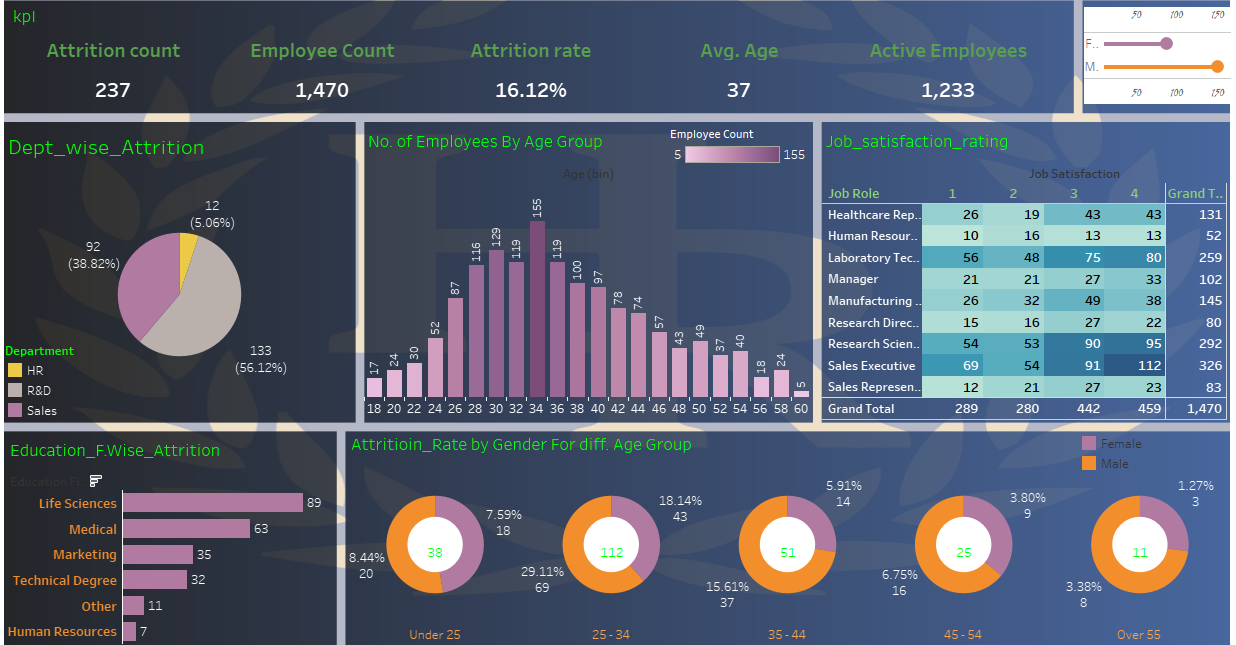

This screenshot's page, from the dashboard's own definition file:
{"tool":"tableau","page":{"name":"Dashboard_HR_Analysis","canvas":[1250,900],"ordinal":1},"visuals":[{"type":"image","param":"C:/Users/91853/Downloads/HR background.pptx.png","box":[8,8,1234,884]},{"type":"filter","title":"Dept_wise_Attrition","param":"[federated.0fatqej0zkk1ga194ip5y0bkae2u].[none:Education:nk]","box":[692,98,238,49]},{"type":"worksheet","title":"kpI","mark":"Automatic","box":[17,159,1044,120]},{"type":"worksheet","title":"Attrition by gender","mark":"Automatic","rows":["Gender"],"cols":["Calculation_1072138194019225600","Calculation_1072138194019225600"],"box":[1092,166,148,97]},{"type":"worksheet","title":"No. of Employees By Age Group","mark":"Automatic","rows":["Employee Count"],"cols":["Age (bin)"],"box":[372,284,448,293]},{"type":"worksheet","title":"Job_satisfaction_rating","mark":"Square","rows":["Job Role"],"cols":["Job Satisfaction"],"box":[830,284,405,295]},{"type":"legend","title":"No. of Employees By Age Group","param":"[federated.0fatqej0zkk1ga194ip5y0bkae2u].[sum:Employee Count:qk]","box":[678,285,140,76]},{"type":"worksheet","title":"Dept_wise_Attrition","mark":"Pie","box":[12,287,351,290]},{"type":"legend","title":"Dept_wise_Attrition","param":"[federated.0fatqej0zkk1ga194ip5y0bkae2u].[none:Department:nk]","box":[13,501,86,78]},{"type":"worksheet","title":"Attritioin_Rate by Gender For diff. Age Group","mark":"Pie","rows":["Calculation_572238635734073345","Calculation_572238635734073345"],"cols":["CF_age band"],"box":[355,587,881,216]},{"type":"legend","title":"Attritioin_Rate by Gender For diff. Age Group","param":"[federated.0fatqej0zkk1ga194ip5y0bkae2u].[none:Gender:nk]","box":[1087,592,149,44]},{"type":"worksheet","title":"Education_F.Wise_Attrition","mark":"Automatic","rows":["Education Field"],"cols":["Calculation_1072138194019225600"],"box":[14,593,329,210]}]}

Visuals, with their boxes on the page's 1250x900 design canvas (x1, y1, x2, y2). These are canvas units, not pixel positions in the 1236x645 screenshot, which may show the page scaled, cropped or inside an application window:
image: x1=8, y1=8, x2=1242, y2=892
"Dept_wise_Attrition" filter: x1=692, y1=98, x2=930, y2=147
"kpI" worksheet: x1=17, y1=159, x2=1061, y2=279
"Attrition by gender" worksheet: x1=1092, y1=166, x2=1240, y2=263
"No. of Employees By Age Group" worksheet: x1=372, y1=284, x2=820, y2=577
"Job_satisfaction_rating" worksheet (Square marks): x1=830, y1=284, x2=1235, y2=579
"No. of Employees By Age Group" legend: x1=678, y1=285, x2=818, y2=361
"Dept_wise_Attrition" worksheet (Pie marks): x1=12, y1=287, x2=363, y2=577
"Dept_wise_Attrition" legend: x1=13, y1=501, x2=99, y2=579
"Attritioin_Rate by Gender For diff. Age Group" worksheet (Pie marks): x1=355, y1=587, x2=1236, y2=803
"Attritioin_Rate by Gender For diff. Age Group" legend: x1=1087, y1=592, x2=1236, y2=636
"Education_F.Wise_Attrition" worksheet: x1=14, y1=593, x2=343, y2=803
